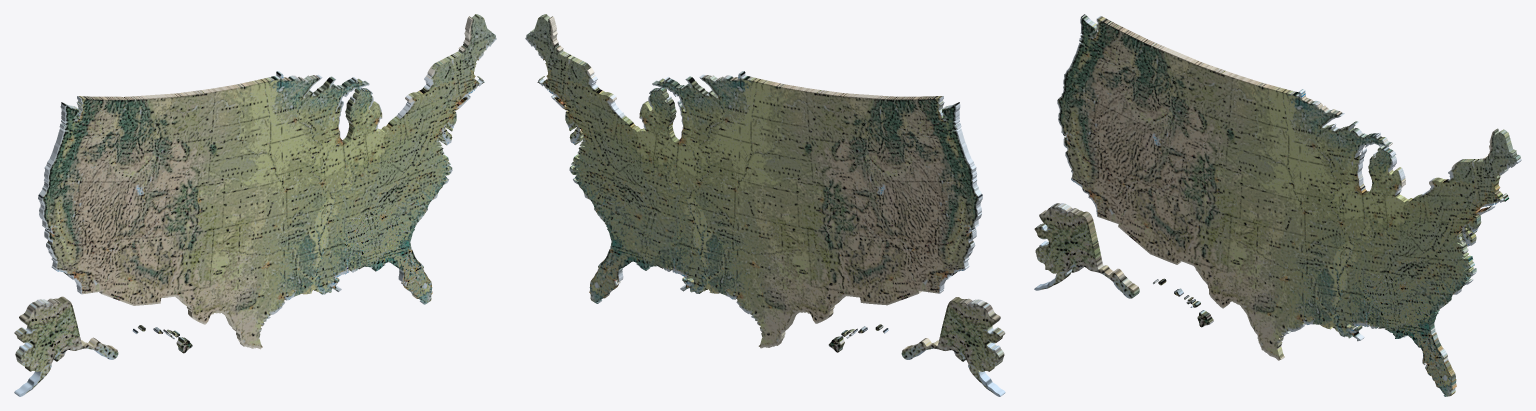
3 renders of one model, left to right at view 1: azimuth 30°, elevation 25°; view 2: azimuth 150°, elevation 25°; view 3: azimuth 330°, elevation 25°, orthographic.
Parts seen in each view (by area): view 1: texas, california, alaska, montana, newmexico, arizona, nevada, oregon, colorado, wyoming, minnesota, idaho (+29 smaller); view 2: texas, california, alaska, montana, newmexico, arizona, nevada, oregon, colorado, wyoming, minnesota, idaho (+29 smaller); view 3: texas, alaska, montana, california, newmexico, arizona, nevada, colorado, wyoming, oregon, minnesota, idaho (+30 smaller).
Part boxes in pixels (left/top/right/bottom): texas: left=175, top=232, right=297, bottom=349; california: left=38, top=178, right=111, bottom=294; alaska: left=14, top=296, right=118, bottom=396; montana: left=125, top=88, right=215, bottom=152; newmexico: left=152, top=231, right=213, bottom=304; arizona: left=99, top=237, right=161, bottom=305; nevada: left=73, top=181, right=128, bottom=263; oregon: left=44, top=128, right=117, bottom=182; colorado: left=161, top=182, right=224, bottom=237; wyoming: left=151, top=138, right=211, bottom=191; minnesota: left=262, top=71, right=322, bottom=143; idaho: left=105, top=96, right=156, bottom=181; texas: left=724, top=231, right=845, bottom=348; california: left=909, top=177, right=982, bottom=293; alaska: left=901, top=297, right=1005, bottom=396; montana: left=806, top=88, right=896, bottom=152; newmexico: left=808, top=230, right=868, bottom=303; arizona: left=860, top=237, right=921, bottom=305; nevada: left=893, top=181, right=947, bottom=263; oregon: left=903, top=127, right=976, bottom=181; colorado: left=797, top=182, right=859, bottom=236; wyoming: left=809, top=138, right=869, bottom=190; minnesota: left=699, top=71, right=759, bottom=143; idaho: left=864, top=96, right=916, bottom=181; texas: left=1192, top=223, right=1315, bottom=360; alaska: left=1034, top=203, right=1139, bottom=298; montana: left=1142, top=40, right=1236, bottom=122; california: left=1057, top=85, right=1127, bottom=224; newmexico: left=1169, top=198, right=1230, bottom=274; arizona: left=1118, top=181, right=1177, bottom=261; nevada: left=1089, top=103, right=1144, bottom=198; colorado: left=1178, top=154, right=1241, bottom=219; wyoming: left=1168, top=103, right=1228, bottom=168; oregon: left=1063, top=42, right=1133, bottom=114; minnesota: left=1283, top=89, right=1344, bottom=166; idaho: left=1121, top=36, right=1173, bottom=135.
Bounding box in the file's own units: 14157 × 8338 × 263.
